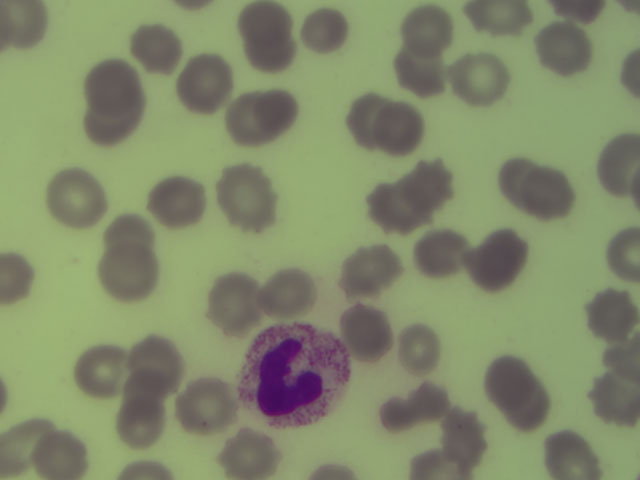RBC: (467, 228, 528, 289), (537, 23, 597, 83), (340, 298, 393, 364), (218, 170, 275, 231), (67, 344, 130, 398), (2, 418, 57, 478), (50, 167, 107, 224), (397, 3, 455, 58), (338, 245, 403, 294), (96, 249, 160, 298), (177, 53, 229, 111), (482, 350, 535, 406), (210, 278, 261, 334), (129, 336, 186, 386), (236, 10, 294, 59), (452, 52, 507, 103), (539, 436, 602, 480), (84, 64, 136, 117), (221, 437, 285, 480), (223, 100, 279, 149), (179, 383, 236, 429), (268, 267, 318, 319), (2, 3, 52, 54), (583, 294, 638, 340), (589, 376, 636, 429), (150, 180, 204, 226), (372, 105, 422, 154), (366, 186, 424, 228), (503, 383, 554, 430), (83, 103, 140, 145), (34, 438, 91, 480), (113, 405, 169, 447), (415, 232, 468, 274), (602, 136, 640, 193), (2, 252, 41, 306), (129, 30, 178, 72), (607, 222, 640, 282), (529, 169, 573, 212), (303, 10, 346, 54), (252, 90, 298, 130), (452, 411, 487, 463), (409, 162, 451, 204), (397, 61, 448, 95), (350, 98, 383, 149), (123, 383, 173, 416), (399, 327, 439, 367), (380, 392, 416, 436), (413, 448, 462, 480), (497, 155, 530, 198), (601, 344, 638, 382), (417, 381, 449, 420), (552, 1, 608, 20), (619, 55, 640, 100), (122, 463, 174, 480), (310, 465, 356, 480), (621, 1, 640, 23), (632, 174, 640, 208), (1, 380, 5, 409)
WBC: (245, 323, 350, 430)
